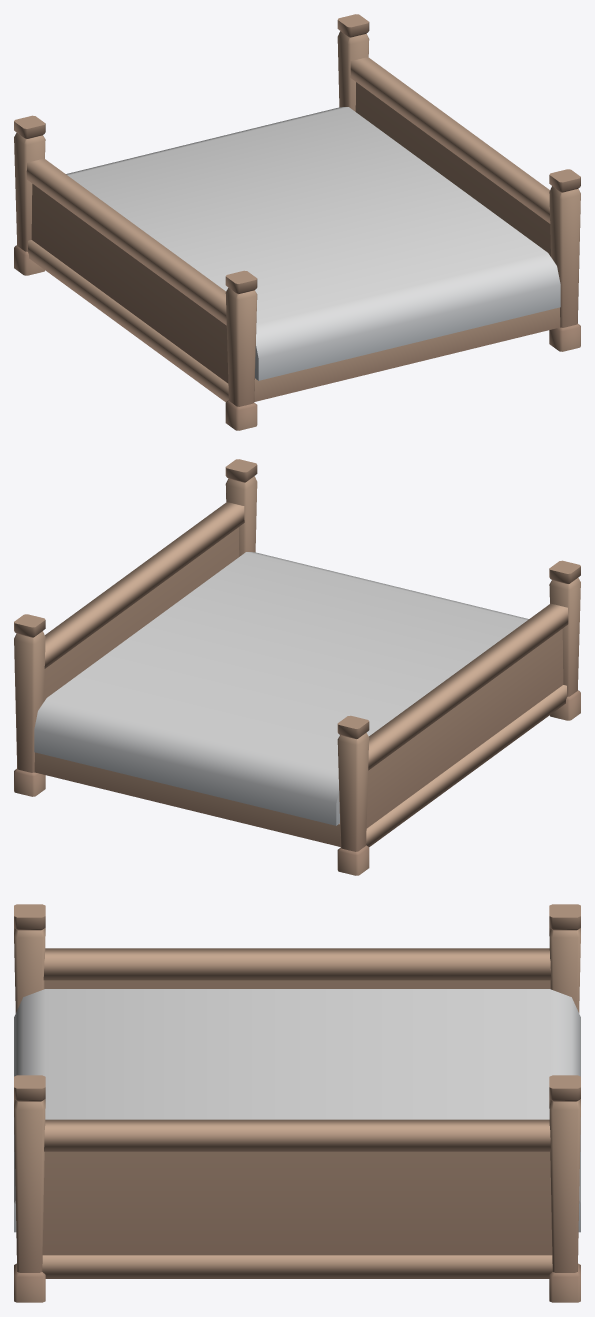
File: bed-detail-carved-double.glb
3 views of the same model, one above another, from view 1: azimuth 30°, elevation 25°; view 2: azimuth 150°, elevation 25°; view 3: azimuth 270°, elevation 25° (orthographic). The views are drawn at different scales.
Parts seen in each view (by area): view 1: bed-detail-carved-double; view 2: bed-detail-carved-double; view 3: bed-detail-carved-double.
Part boxes in pixels (left/top/right/bottom): bed-detail-carved-double: left=14, top=14, right=580, bottom=430; bed-detail-carved-double: left=14, top=459, right=580, bottom=875; bed-detail-carved-double: left=14, top=904, right=580, bottom=1302.
Size of the model in its own units: 1.6 by 0.75 by 1.8.
